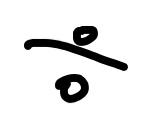div: (24, 26, 128, 103)
